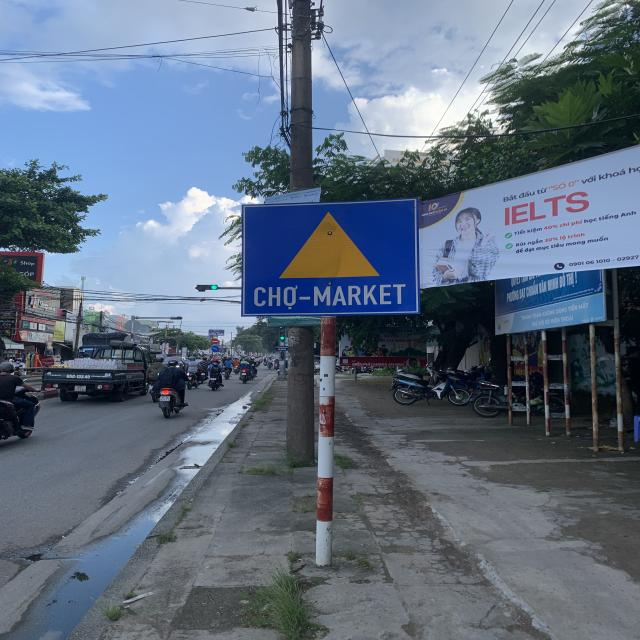Cho_Quay_Xe: (242, 200, 422, 316)
